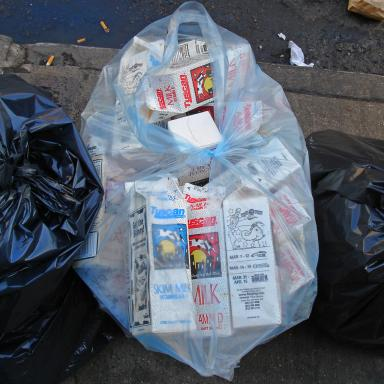plasticbag: (79, 0, 322, 380), (0, 70, 104, 381), (309, 132, 383, 358)
